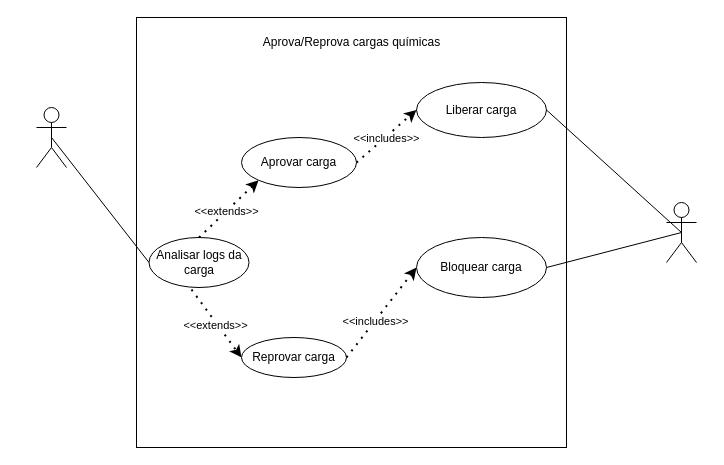
Image size: 724x465. Some labels were removed from this diagram. The centre of each missing label's shape, as x and y in pixels:
Operador Portuário: [681,232]
Responsável Técnico: [51,137]
